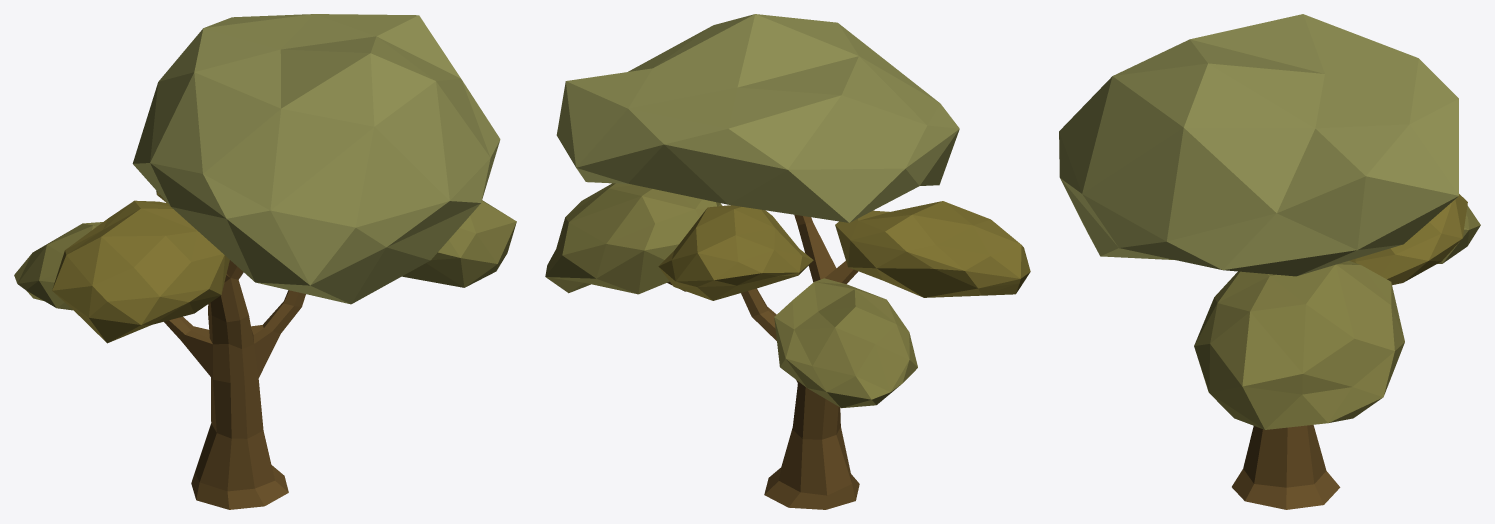
Rendered from enchantedforest_tree_1.fbx.
3 views of the same model, side by side, from view 1: azimuth 30°, elevation 25°; view 2: azimuth 150°, elevation 25°; view 3: azimuth 270°, elevation 25° (orthographic). The views are drawn at different scales.
Parts seen in each view (by area): view 1: Icosphere.002; view 2: Icosphere.002; view 3: Icosphere.002.
Part boxes in pixels (box(x1,y1,x2,y2)): Icosphere.002: box(14, 14, 516, 509); Icosphere.002: box(545, 14, 1030, 509); Icosphere.002: box(1059, 14, 1480, 509).
Bounding box in the file's own units: 12 × 10.99 × 8.84.
